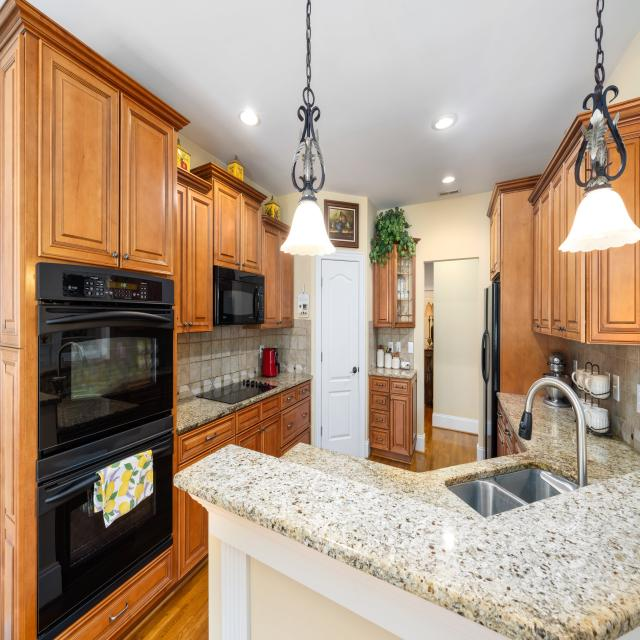Appliance_Microwave: (213, 266, 265, 325)
Appliance_Oven: (36, 411, 173, 640), (37, 263, 174, 460)
Appliance_Sink: (447, 377, 588, 518)
Appliance_Stove: (196, 380, 274, 405)
Cabinet_Glass: (396, 257, 413, 327)
Cabinet_Raised_Panel: (35, 43, 295, 333), (489, 166, 640, 396), (54, 490, 208, 640), (176, 382, 312, 473), (375, 263, 391, 327)
Cabinet_Shaker: (370, 375, 417, 454)
Countertop_Granite: (174, 444, 640, 640), (280, 396, 578, 517), (177, 375, 312, 435), (586, 432, 640, 484), (497, 393, 527, 432)
